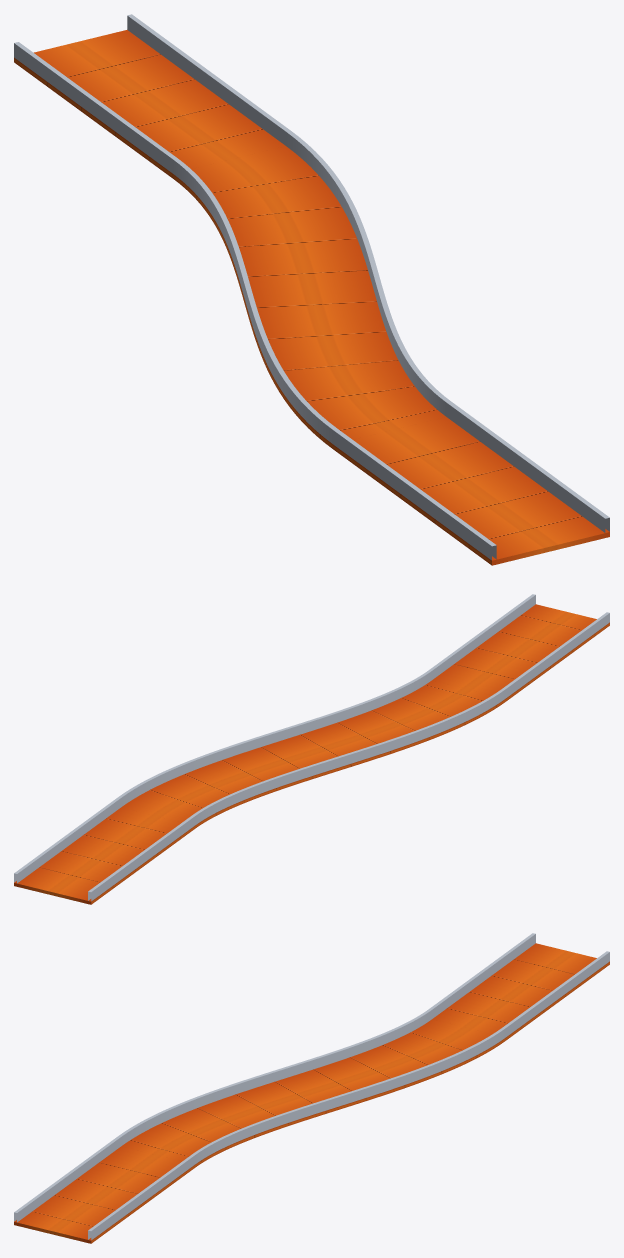
Rendered from loop-return-14.glb.
The picture shows the model from 3 angles, top to bottom: view 1: azimuth 30°, elevation 25°; view 2: azimuth 150°, elevation 25°; view 3: azimuth 330°, elevation 25°; orthographic projection. The views are drawn at different scales.
Bounding box in the file's own units: 7 × 0.47 × 28.
4 materials, 3 textured.
